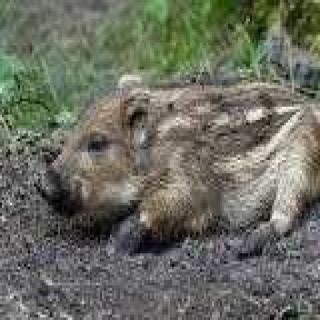Pig: (37, 78, 320, 270)
